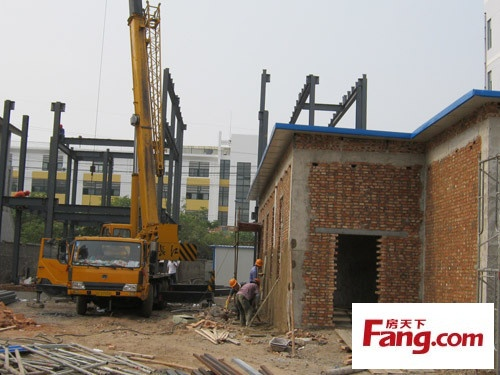yellow: (254, 258, 263, 268), (229, 278, 237, 288)
